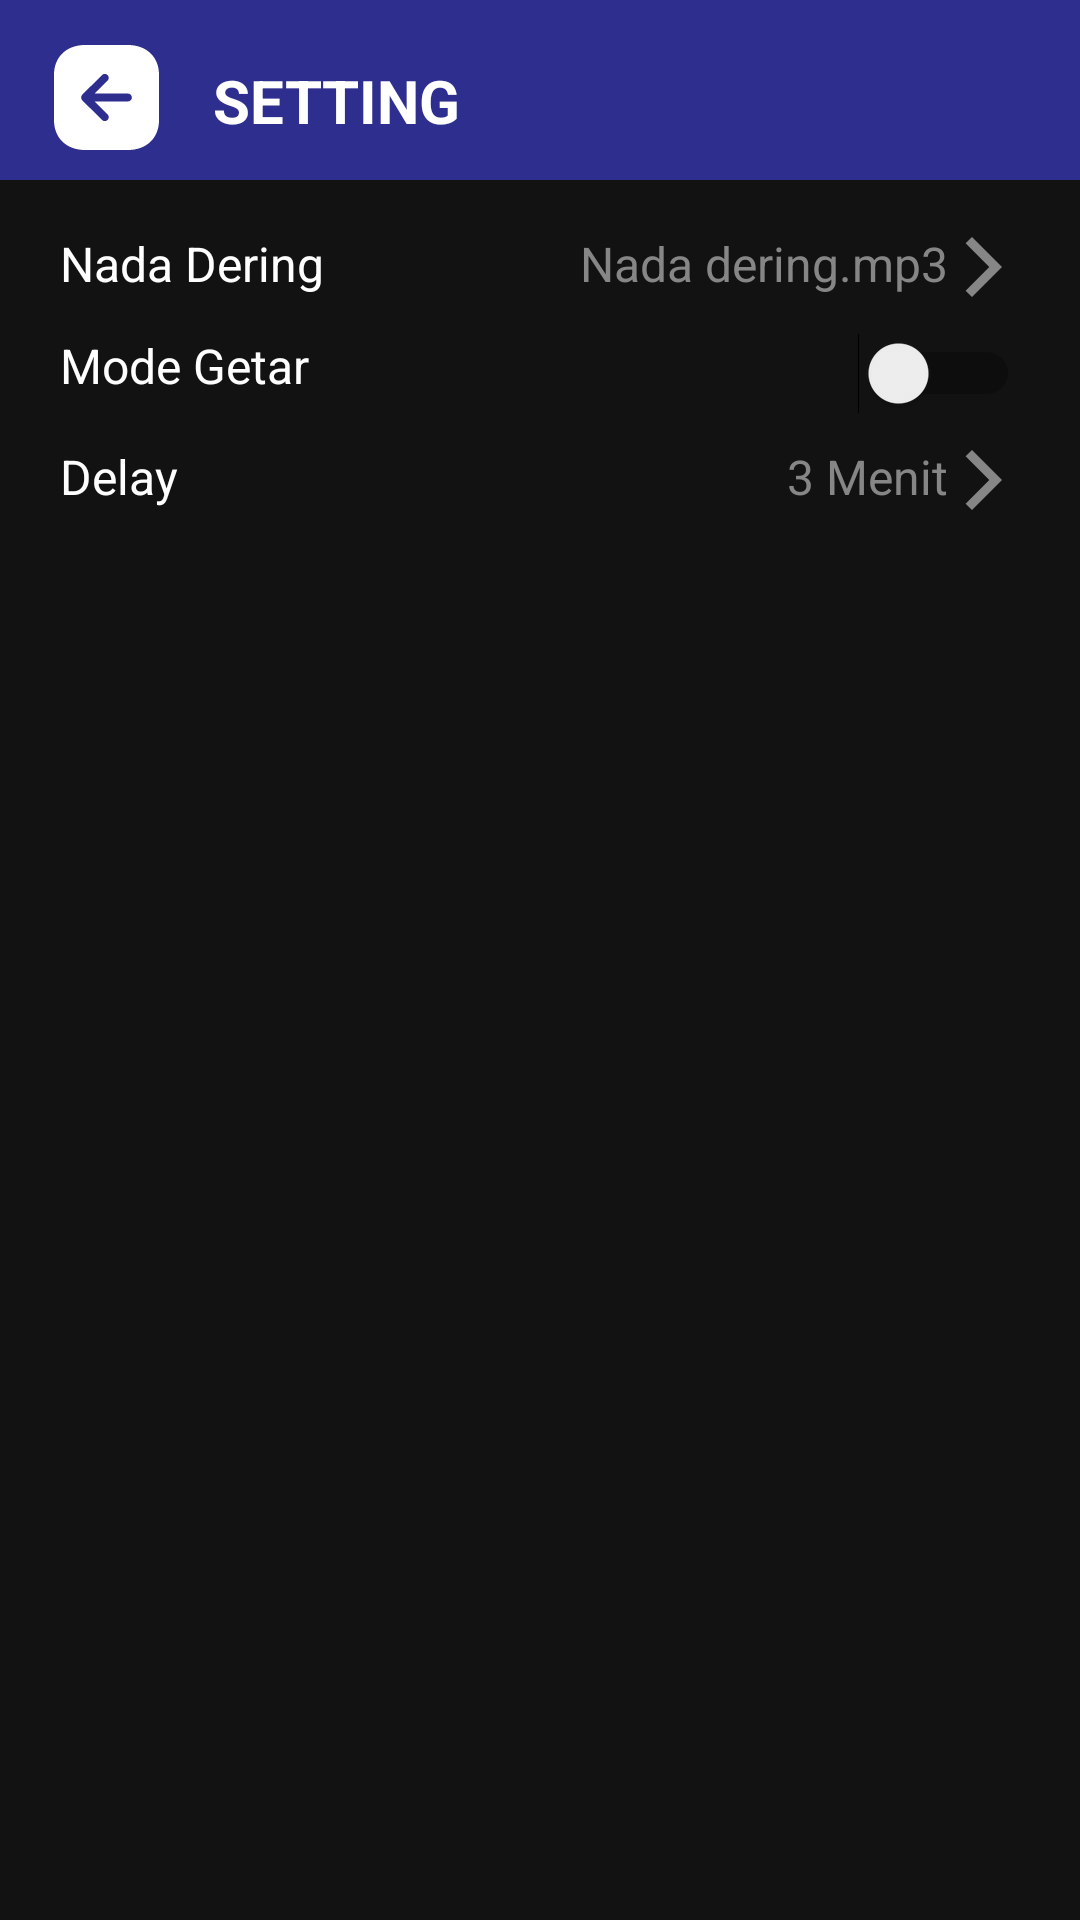

Icons on this 1080*1920 Android screen, each with its box as (x1, y1, x2, y2):
arrow: (54, 45, 159, 150)
